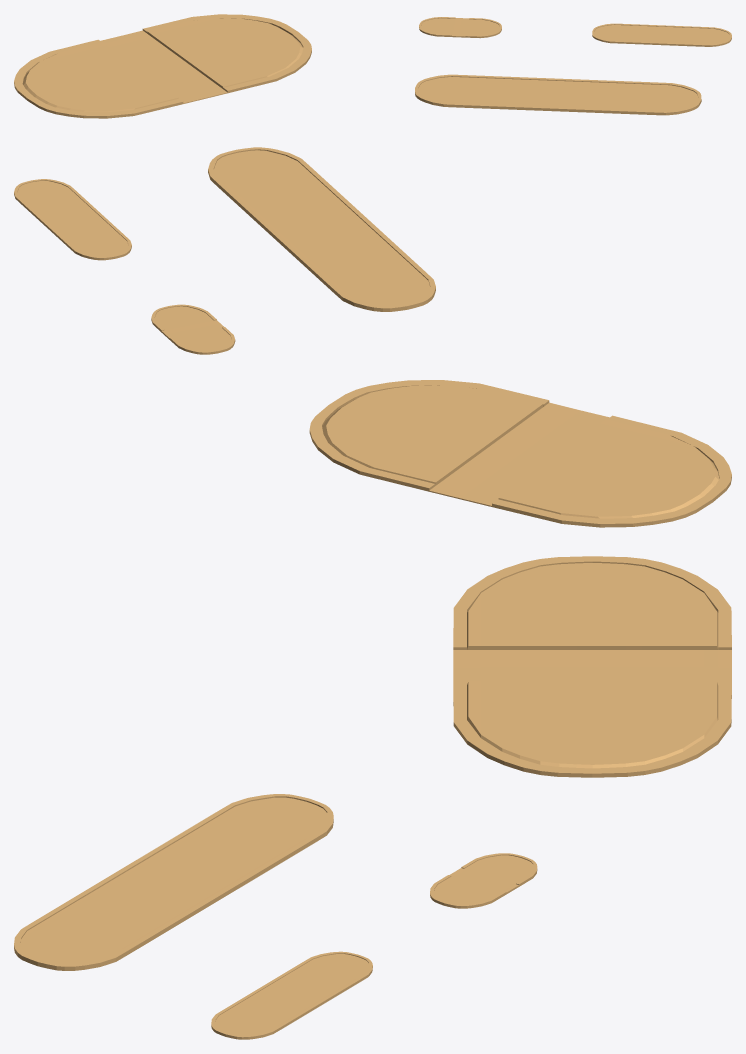
Rendered from Gonzaga_PaveBits.fbx.
3 views of the same model, one above another, from view 1: azimuth 30°, elevation 25°; view 2: azimuth 150°, elevation 25°; view 3: azimuth 270°, elevation 25° (orthographic). The views are drawn at different scales.
Visible parts, largest first — view 1: Center Pavement, Large Road Pavement, Road Pavement, Guard Pavement; view 2: Center Pavement, Large Road Pavement, Road Pavement, Guard Pavement; view 3: Center Pavement, Large Road Pavement, Road Pavement, Guard Pavement.
Boxes of the visible parts, box(x1,y1,x2,y2) form: Center Pavement: box(14, 14, 311, 118); Large Road Pavement: box(415, 74, 701, 115); Road Pavement: box(592, 23, 731, 46); Guard Pavement: box(419, 17, 501, 38); Center Pavement: box(309, 380, 731, 527); Large Road Pavement: box(208, 147, 435, 311); Road Pavement: box(14, 179, 131, 260); Guard Pavement: box(151, 304, 235, 354); Center Pavement: box(453, 556, 731, 777); Large Road Pavement: box(14, 794, 333, 970); Road Pavement: box(211, 951, 372, 1039); Guard Pavement: box(430, 853, 537, 908).
Bounding box in the file's own units: 9339 × 59.9 × 5926.
